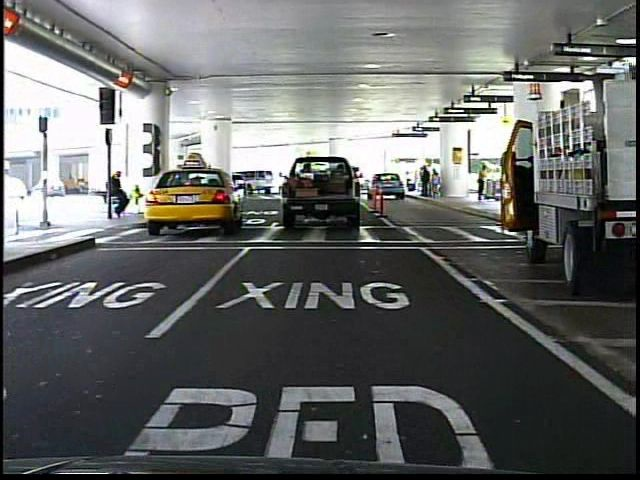person: (108, 164, 132, 221), (474, 159, 494, 205)
